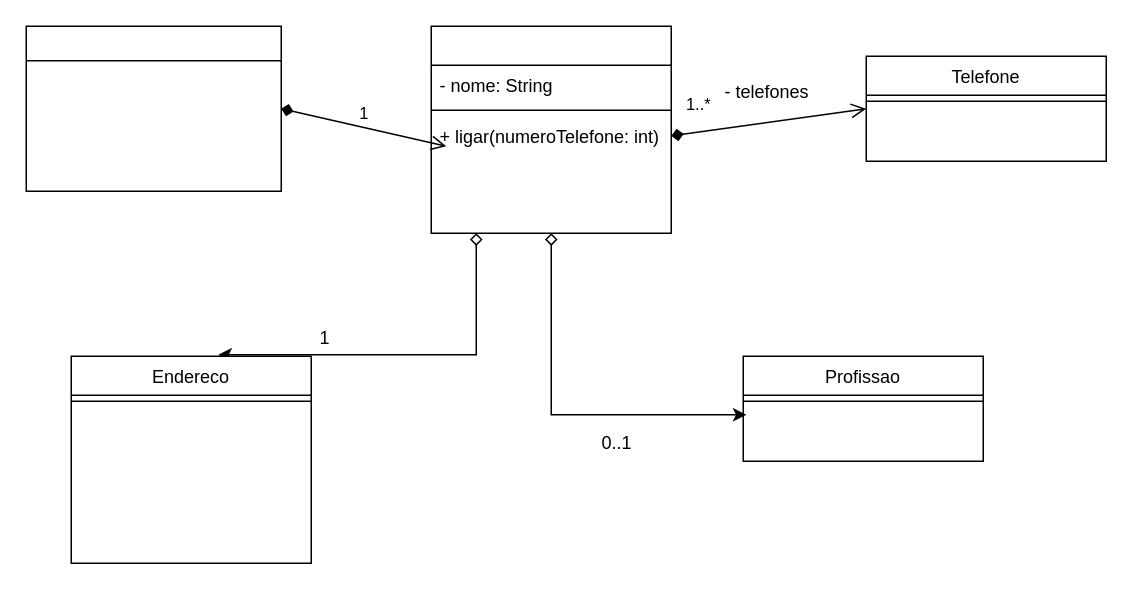
The diagram is 1133 pixels wide and 590 high, and some of its shapes have lost their labels. Each missing label, with the box of its shape:
Admissão: (25, 25, 281, 191)
Candidato: (430, 25, 671, 233)
